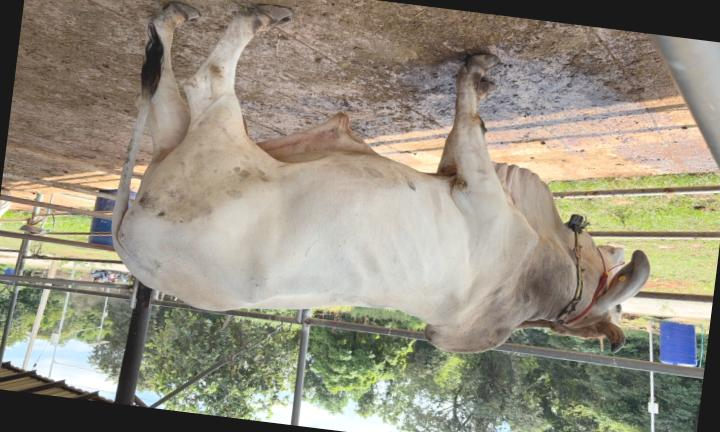Brahman: (111, 3, 648, 353)
